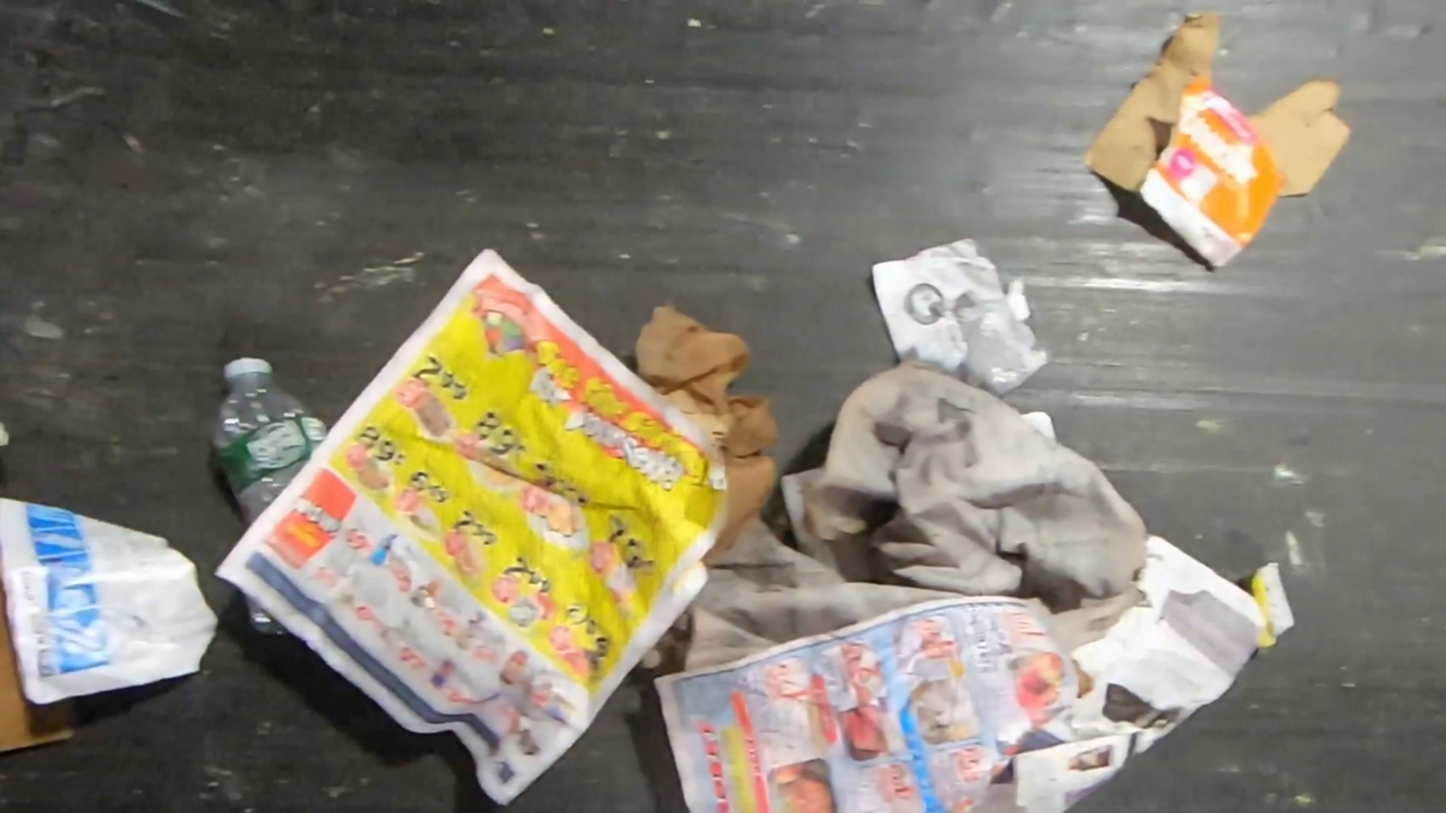cardboard: (1009, 532, 1268, 813), (1077, 11, 1356, 271), (628, 297, 785, 570), (1250, 560, 1300, 652)
plastic: (209, 354, 331, 532), (951, 292, 1041, 398), (241, 590, 293, 637)
